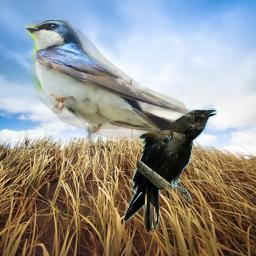Crow: (123, 108, 217, 234)
Swallow: (25, 20, 192, 145)
